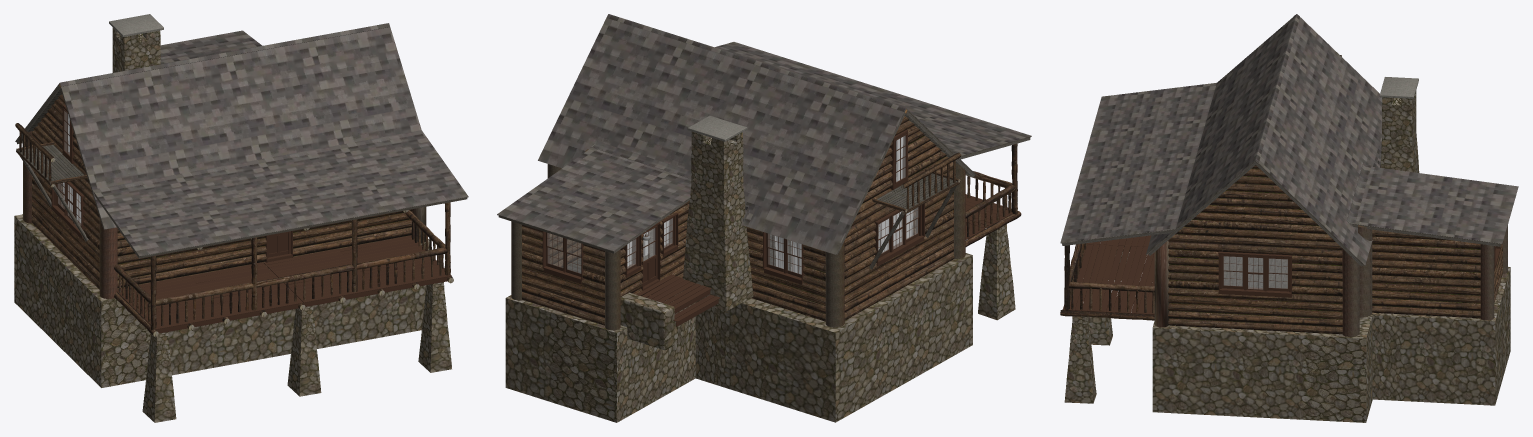
The model's file is log_cabin_free_download-transformed.glb.
3 views of the same model, side by side, from view 1: azimuth 30°, elevation 25°; view 2: azimuth 150°, elevation 25°; view 3: azimuth 270°, elevation 25° (orthographic). The views are drawn at different scales.
Visible parts, largest first — view 1: Object_30, Object_4, Object_17, Object_11, Object_38, Object_28, Object_40, Object_10, Object_7, Object_33, Object_9; view 2: Object_30, Object_4, Object_17, Object_28, Object_40, Object_34, Object_38, Object_47, Object_12, Object_41, Object_10, Object_7 (+4 smaller); view 3: Object_30, Object_4, Object_17, Object_28, Object_11, Object_33, Object_40, Object_38, Object_8, Object_34, Object_7.
Part boxes in pixels (x1,y1,x2,y2): Object_30: (16, 23, 468, 256); Object_4: (14, 27, 451, 422); Object_17: (15, 92, 452, 335); Object_11: (116, 235, 451, 333); Object_38: (15, 83, 468, 258); Object_28: (23, 131, 426, 298); Object_40: (51, 181, 292, 262); Object_10: (18, 89, 84, 181); Object_7: (109, 14, 163, 36); Object_33: (32, 183, 411, 288); Object_9: (62, 104, 292, 262); Object_30: (497, 14, 1031, 254); Object_4: (505, 131, 1015, 422); Object_17: (522, 116, 1021, 325); Object_28: (511, 149, 965, 330); Object_40: (623, 203, 924, 290); Object_34: (547, 207, 917, 274); Object_38: (497, 108, 1031, 269); Object_47: (542, 231, 804, 284); Object_12: (636, 274, 719, 326); Object_41: (627, 137, 913, 274); Object_10: (877, 114, 970, 209); Object_7: (687, 115, 746, 141); Object_30: (1060, 14, 1518, 265); Object_4: (1064, 91, 1510, 422); Object_17: (1060, 55, 1502, 334); Object_28: (1154, 167, 1507, 336); Object_11: (1062, 235, 1154, 314); Object_33: (1169, 168, 1502, 327); Object_40: (1218, 251, 1292, 297); Object_38: (1060, 160, 1516, 266); Object_8: (1223, 256, 1287, 288); Object_34: (1224, 256, 1287, 289); Object_7: (1379, 77, 1418, 98).
Bounding box in the file's own units: 12.99 × 9.42 × 15.08.
Materials: 24 (14 with a texture image).
